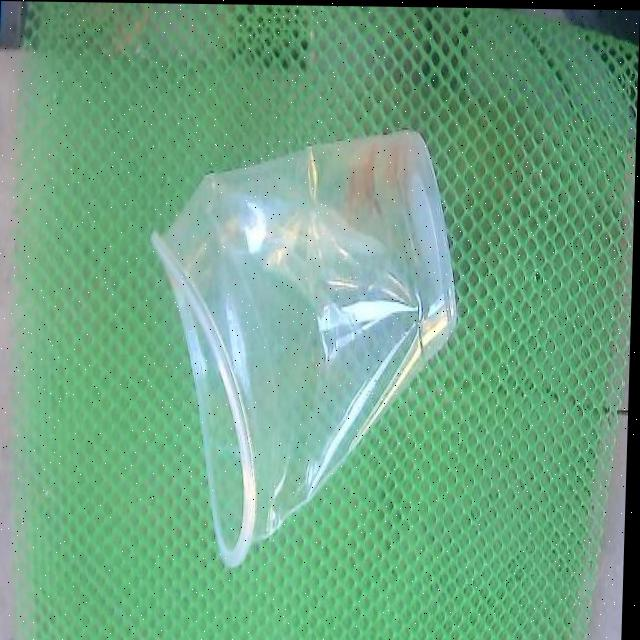cup: (152, 130, 456, 565)
